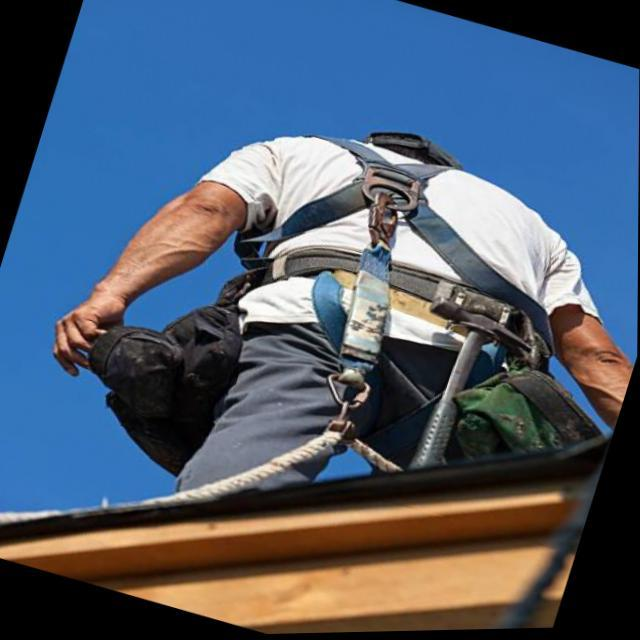belt: (178, 108, 580, 506)
